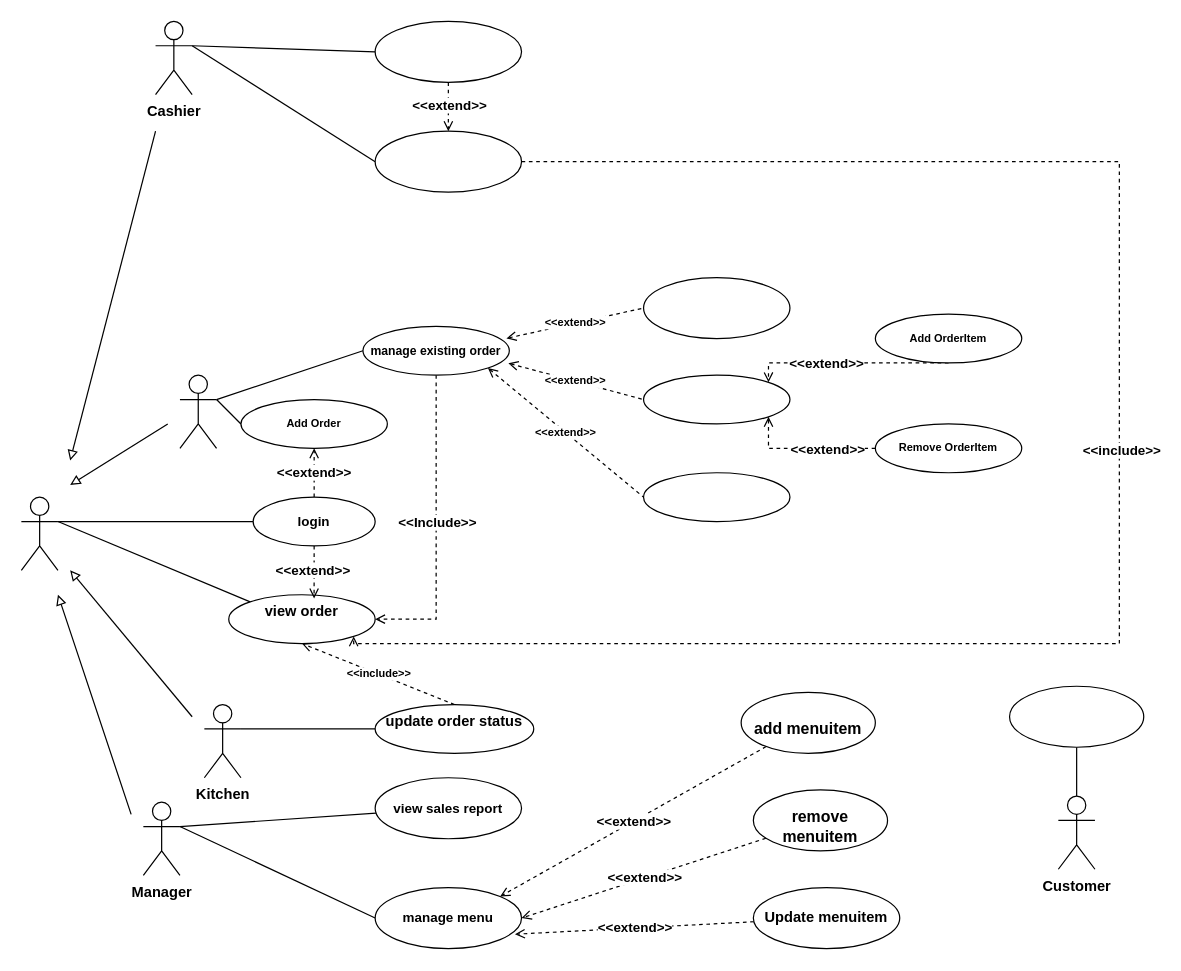
This 1181x971 diagram has some shape labels left out. The centre of each missing label's shape, as x and y in pixels:
"Print bill" belongs at point 448,51.
"Process Payment" belongs at point 448,161.
"Remove Order" belongs at point 716,307.
"Send Order to Kitchen" belongs at point 716,497.
"Staff" belongs at point 39,533.
"Update Order" belongs at point 716,399.
"view menu" belongs at point 1076,716.
"Waiter" belongs at point 198,411.
